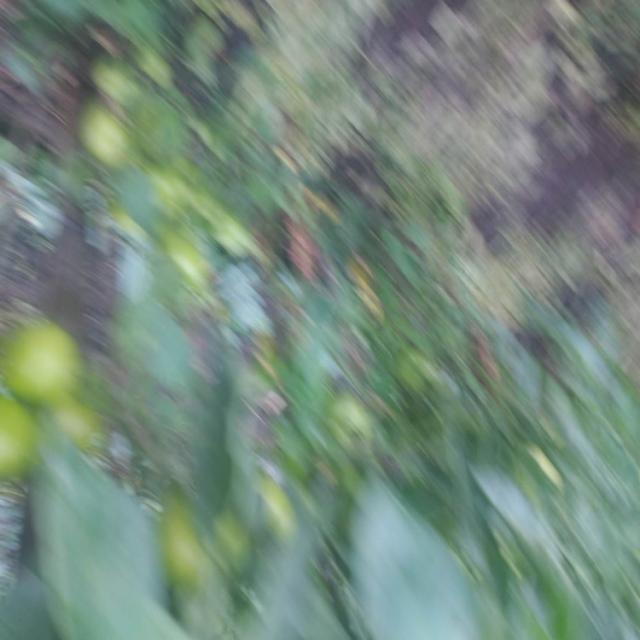tomato: (1, 307, 83, 414), (170, 495, 254, 590), (1, 397, 40, 497), (83, 109, 142, 173)
